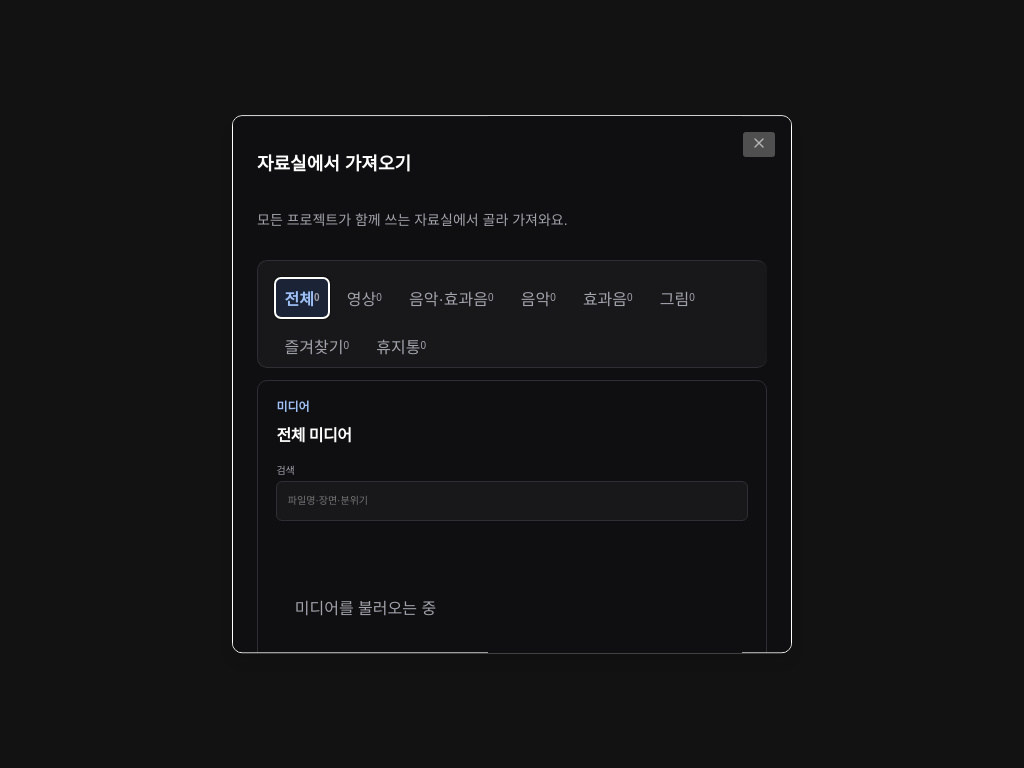
Test: LibraryPickerDialog › `전체` 탭에서도 네 종류에 함께 물어 뜻으로 찾는다
Type "공원" into the field labelled "검색" at (512,501), box [276, 481, 748, 521]
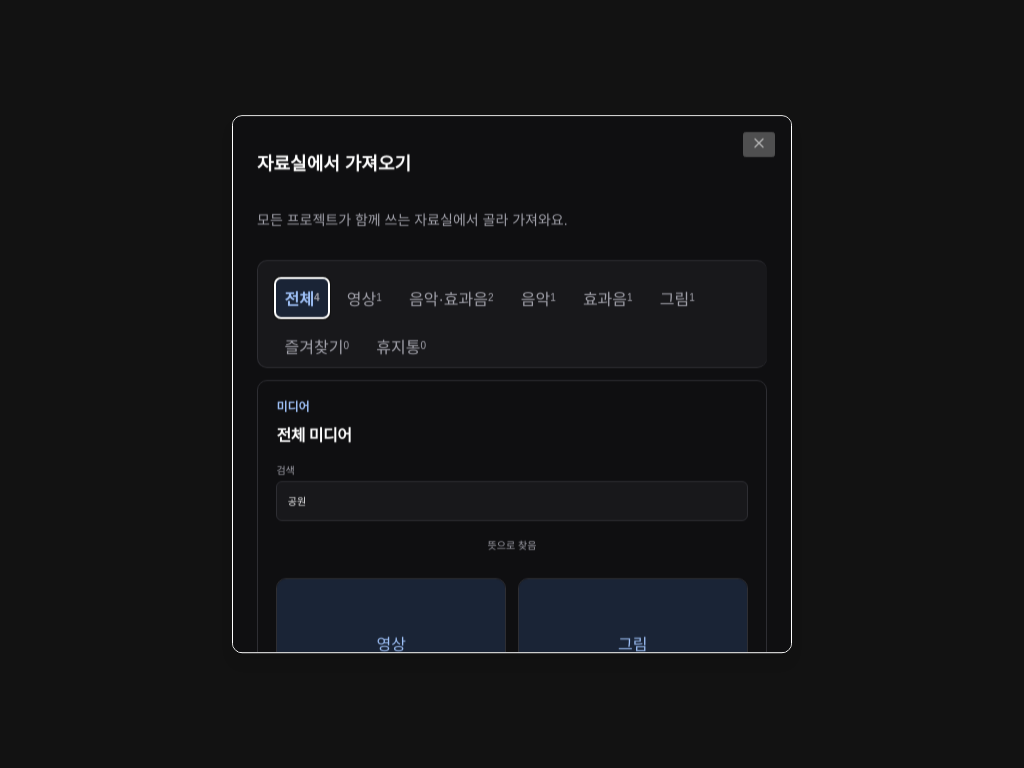
expect the message named "찾은 방식" reads "뜻으로 찾음": met, box [488, 540, 536, 551]
